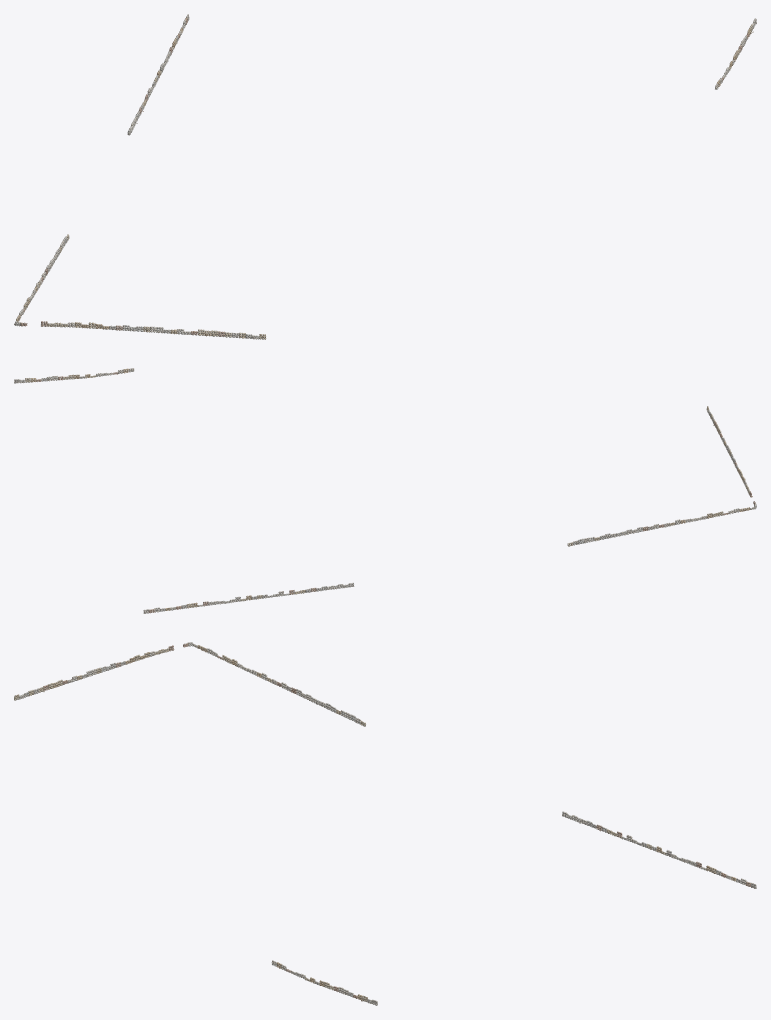
Rendered from farm_-7_0_near.glb.
3 renders of one model, top to bottom at view 1: azimuth 30°, elevation 25°; view 2: azimuth 150°, elevation 25°; view 3: azimuth 270°, elevation 25°, orthographic. The views are drawn at different scales.
Parts seen in each view (by area): view 1: geometry_0; view 2: geometry_0; view 3: geometry_0.
Part boxes in pixels (x1,y1,x2,y2): geometry_0: [14, 14, 756, 339]; geometry_0: [14, 368, 756, 613]; geometry_0: [14, 642, 756, 1005].
Bounding box in the file's own units: 216 × 14.93 × 176.
